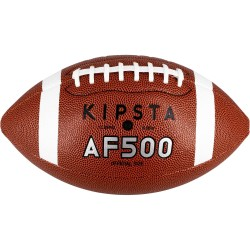Nonrec_Plastic: (1, 61, 247, 199)
